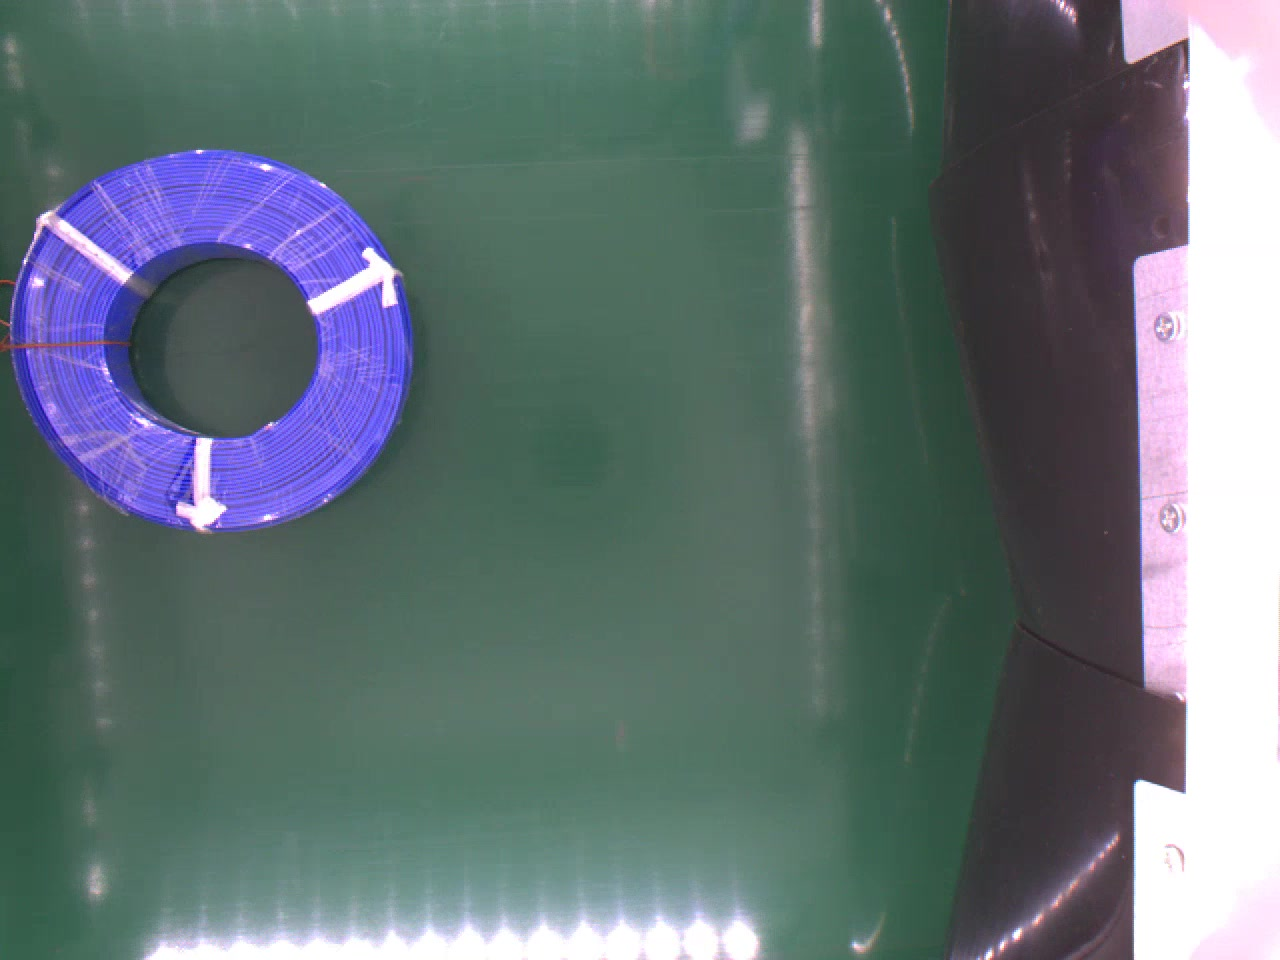blue: (16, 143, 412, 524)
